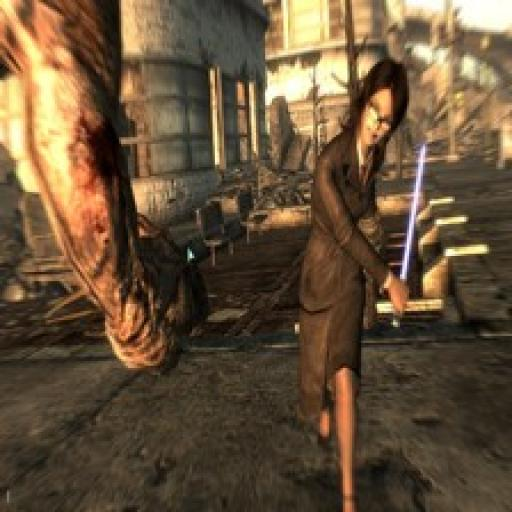human: (282, 63, 415, 512)
lightsaber: (393, 146, 427, 328)
